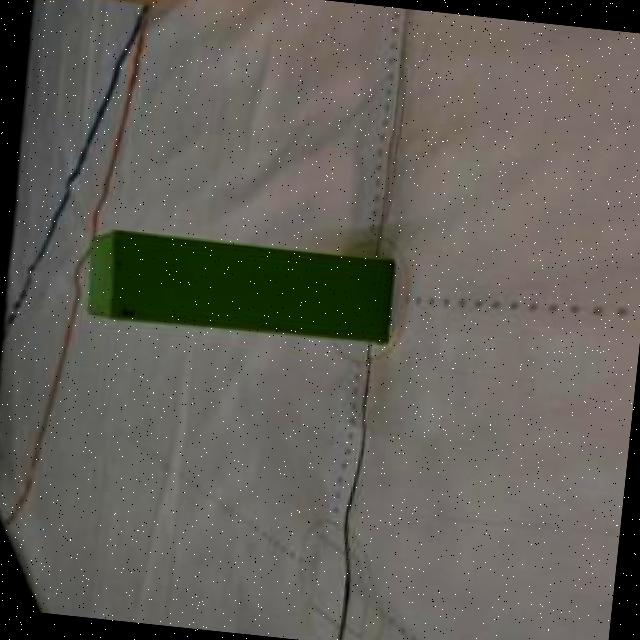greenbox: (84, 226, 398, 345)
